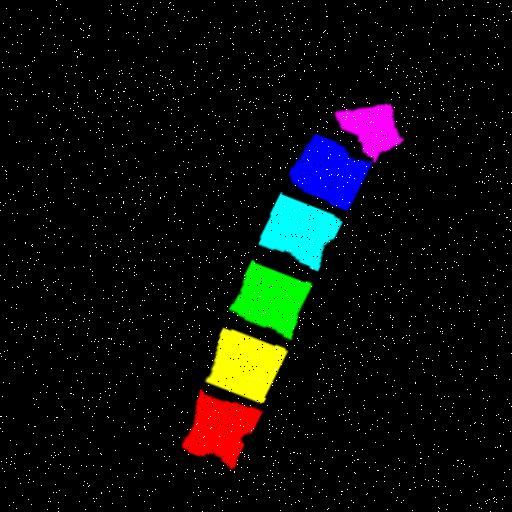L1: (193, 390, 269, 467)
L2: (214, 328, 295, 404)
L3: (238, 262, 320, 339)
L4: (263, 196, 347, 271)
L5: (293, 136, 376, 212)
S1: (337, 107, 406, 163)
